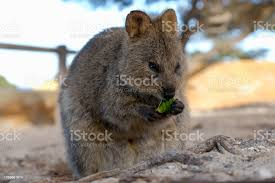quokka: (48, 6, 190, 177)
